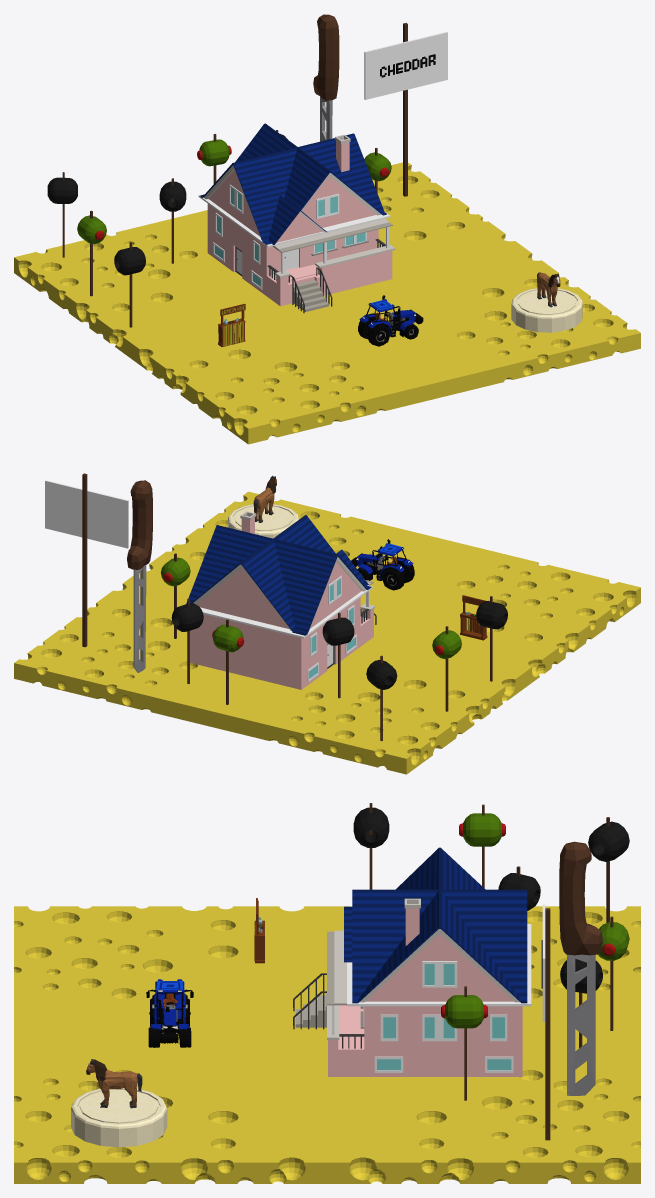
3 views of the same model, one above another, from view 1: azimuth 30°, elevation 25°; view 2: azimuth 150°, elevation 25°; view 3: azimuth 270°, elevation 25° (orthographic). The views are drawn at different scales.
Visible parts, largest first — view 1: Cube.022, Cube.313, Cube.023, Cylinder.016, Cube.024, VEHICLES_TRACTOR, Sphere.017, OBJRANDOM_LEMONADE_STAND, Sphere.016, Sphere.020, Sphere.018, Sphere.022 (+2 smaller); view 2: Cube.022, Cube.313, Cube.023, Cube.024, VEHICLES_TRACTOR, Cylinder.016, Sphere.017, Sphere.020, Sphere.021, Sphere.016, Sphere.018, Sphere.022 (+3 smaller); view 3: Cube.022, Cube.313, Cube.024, Cylinder.016, VEHICLES_TRACTOR, Cube.023, Sphere.019, Sphere.016, Sphere.018, Sphere.017, ANIMAL_CABALLO, Sphere.022 (+3 smaller).
Part boxes in pixels (<box>): Cube.022: <box>14,162,640,444</box>; Cube.313: <box>198,123,395,313</box>; Cube.023: <box>364,23,447,196</box>; Cylinder.016: <box>511,288,582,332</box>; Cube.024: <box>313,14,339,141</box>; VEHICLES_TRACTOR: <box>358,295,423,346</box>; Sphere.017: <box>114,242,145,327</box>; OBJRANDOM_LEMONADE_STAND: <box>218,303,245,346</box>; Sphere.016: <box>47,172,77,257</box>; Sphere.020: <box>159,178,186,263</box>; Sphere.018: <box>77,210,106,296</box>; Sphere.022: <box>197,134,231,183</box>; Cube.022: <box>14,491,640,774</box>; Cube.313: <box>185,511,376,689</box>; Cube.023: <box>45,473,128,647</box>; Cube.024: <box>127,480,152,672</box>; VEHICLES_TRACTOR: <box>351,539,414,590</box>; Cylinder.016: <box>228,503,298,538</box>; Sphere.017: <box>476,596,507,681</box>; Sphere.020: <box>322,612,354,698</box>; Sphere.021: <box>171,598,203,683</box>; Sphere.016: <box>366,655,397,741</box>; Sphere.018: <box>432,626,461,711</box>; Sphere.022: <box>212,619,244,704</box>; Cube.022: <box>14,906,640,1183</box>; Cube.313: <box>293,847,531,1076</box>; Cube.024: <box>559,841,602,1095</box>; Cylinder.016: <box>71,1088,167,1147</box>; VEHICLES_TRACTOR: <box>146,979,193,1047</box>; Cube.023: <box>541,904,550,1140</box>; Sphere.019: <box>441,986,487,1100</box>; Sphere.016: <box>588,817,629,922</box>; Sphere.018: <box>459,804,505,887</box>; Sphere.017: <box>353,803,389,889</box>; ANIMAL_CABALLO: <box>86,1059,142,1108</box>; Sphere.022: <box>598,916,629,1030</box>.
Bounding box in the file's own units: 3917 × 2010 × 4000.
Materials: 40 (3 with a texture image).
